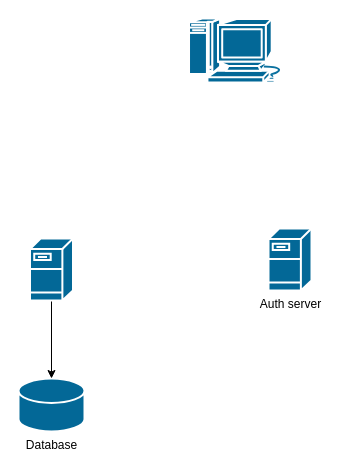
The diagram is 338 pixels wide and 469 high, and some of its shapes have lost their labels. Each missing label, with the box of its shape:
api server: (28, 237, 74, 301)
Client: (187, 17, 288, 83)
